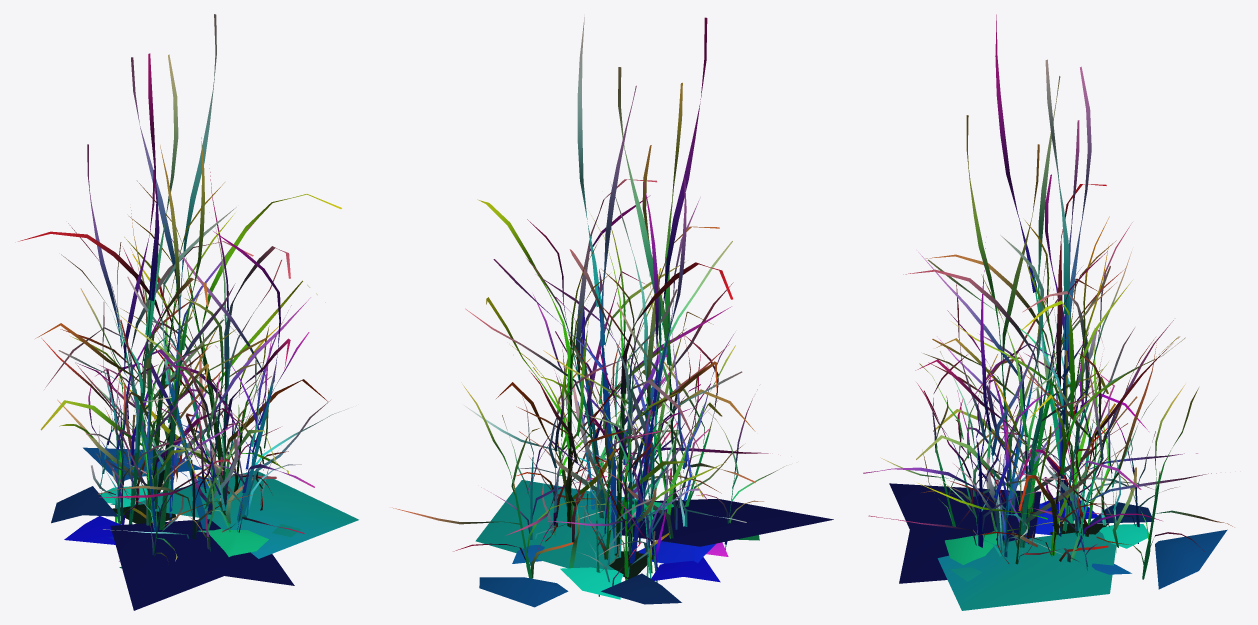
The model's file is Kikuyu_Grass_wiljearqx_High_wiljearqx_VarA_LOD1.fbx.
3 views of the same model, side by side, from view 1: azimuth 30°, elevation 25°; view 2: azimuth 150°, elevation 25°; view 3: azimuth 270°, elevation 25° (orthographic). The views are drawn at different scales.
Visible parts, largest first — view 1: _igpt_VarA_LOD2; view 2: _igpt_VarA_LOD2; view 3: _igpt_VarA_LOD2.
Boxes of the visible parts, <box> form: _igpt_VarA_LOD2: <box>18,14,358,610</box>; _igpt_VarA_LOD2: <box>392,17,833,607</box>; _igpt_VarA_LOD2: <box>863,14,1234,610</box>.
Bounding box in the file's own units: 32.9 × 54.01 × 35.71.
